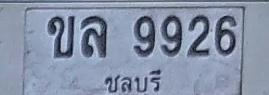2: (188, 14, 210, 56)
6: (215, 14, 236, 56)
9: (161, 14, 182, 56), (134, 15, 155, 56)
A02: (47, 15, 75, 58)
A36: (82, 15, 108, 57)
CBI: (102, 67, 164, 95)
